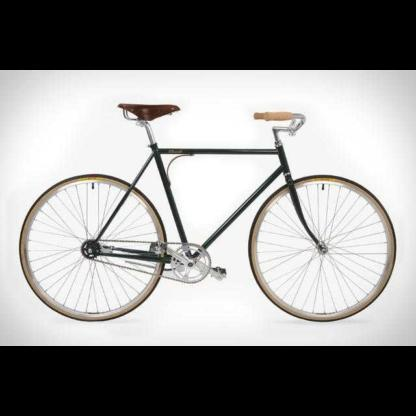Bicycle: (6, 78, 404, 342)
